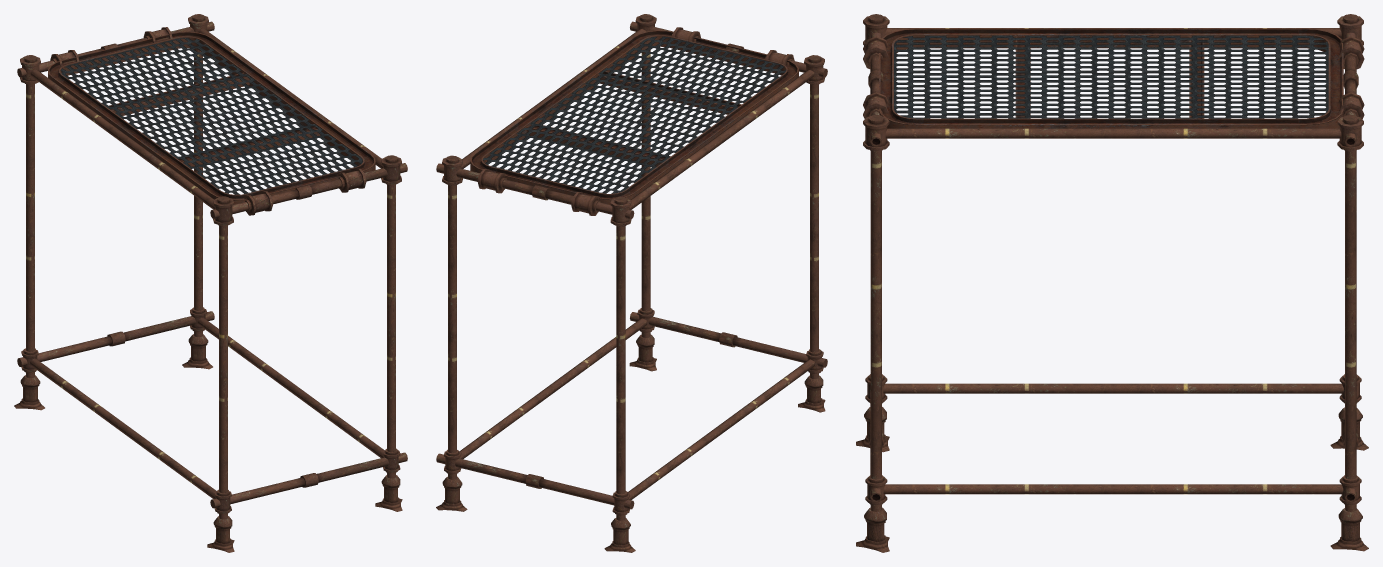
The model's file is scaffold_walkway_bottom.dae.
3 views of the same model, side by side, from view 1: azimuth 30°, elevation 25°; view 2: azimuth 150°, elevation 25°; view 3: azimuth 270°, elevation 25° (orthographic). The views are drawn at different scales.
Visible parts, largest first — view 1: polySurface119, pPlane1, polySurface128, pPlane2; view 2: polySurface119, pPlane1, polySurface128, pPlane2; view 3: polySurface119, pPlane1, polySurface128, pPlane2.
Boxes of the visible parts, x1,y1,x2,y2 form: polySurface119: (14,14,407,552); pPlane1: (60,38,362,194); polySurface128: (48,31,375,204); pPlane2: (62,38,361,194); polySurface119: (436,14,827,552); pPlane1: (483,36,786,193); polySurface128: (470,30,798,204); pPlane2: (486,36,783,192); polySurface119: (856,14,1368,552); pPlane1: (894,35,1328,118); polySurface128: (879,28,1343,128); pPlane2: (894,35,1328,118).
Size of the model in its own units: 2.34 by 3.95 by 4.3.
